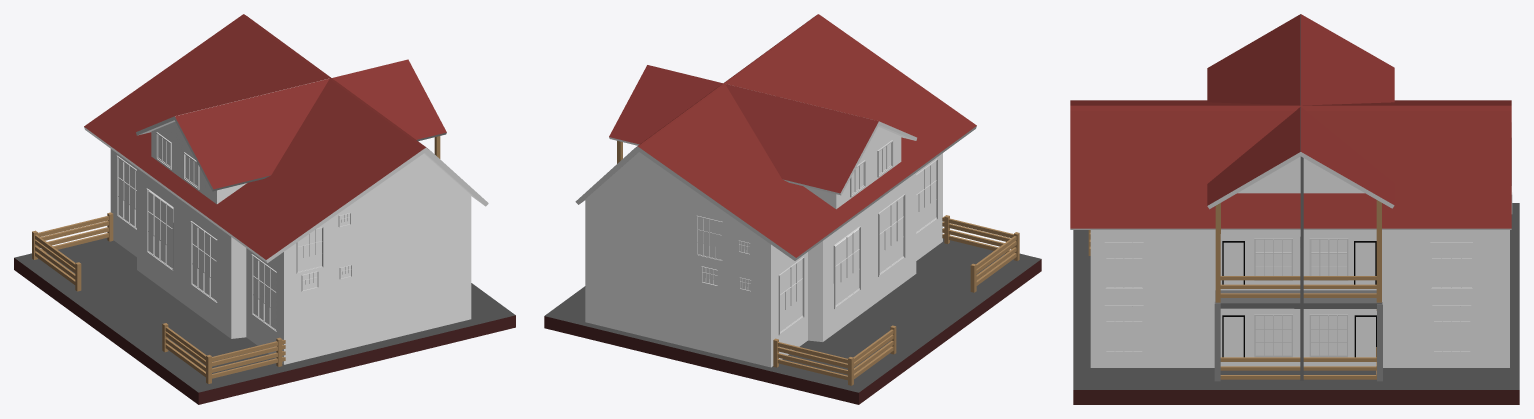
Rendered from TYPE2.glb.
The picture shows the model from 3 angles, left to right: view 1: azimuth 30°, elevation 25°; view 2: azimuth 150°, elevation 25°; view 3: azimuth 270°, elevation 25°; orthographic projection. The views are drawn at different scales.
Parts seen in each view (by area): view 1: Cube, Cube.002, Cube.001, Cube.003, Cube.040, Cube.036, Cube.005, Plane.003, Plane.004, Plane.006, Plane.008, Plane.010 (+6 smaller); view 2: Cube, Cube.002, Cube.001, Cube.004, Cube.036, Cube.040, Cube.005, Plane.003, Plane.004, Plane.008, Plane.006, Plane.018 (+4 smaller); view 3: Cube.002, Cube, Cube.001, Cube.004, Cube.003, Cube.005, Cube.007, Plane.032, Plane.026, Plane.028, Plane.030, Plane.043 (+22 smaller).
Boxes of the visible parts, box(x1,y1,x2,y2) form: Cube: box(110, 149, 471, 364); Cube.002: box(84, 14, 488, 262); Cube.001: box(14, 223, 515, 404); Cube.003: box(174, 59, 446, 191); Cube.040: box(162, 323, 285, 383); Cube.036: box(32, 212, 113, 284); Cube.005: box(151, 121, 246, 204); Plane.003: box(148, 191, 173, 268); Plane.004: box(192, 224, 217, 301); Plane.006: box(253, 257, 276, 330); Plane.008: box(118, 159, 136, 227); Plane.010: box(297, 228, 321, 271); Cube: box(585, 152, 942, 367); Cube.002: box(575, 14, 976, 260); Cube.001: box(544, 238, 1041, 404); Cube.004: box(609, 65, 879, 195); Cube.036: box(773, 329, 893, 385); Cube.040: box(942, 217, 1019, 292); Cube.005: box(804, 126, 901, 209); Plane.003: box(835, 229, 859, 305); Plane.004: box(879, 197, 903, 272); Plane.008: box(780, 260, 802, 331); Plane.006: box(916, 162, 936, 231); Plane.018: box(698, 217, 722, 260); Cube.002: box(1070, 100, 1511, 229); Cube: box(1090, 230, 1509, 367); Cube.001: box(1073, 203, 1519, 404); Cube.004: box(1300, 14, 1394, 208); Cube.003: box(1207, 14, 1302, 209); Cube.005: box(1237, 156, 1364, 193); Cube.007: box(1215, 290, 1381, 308); Plane.032: box(1432, 243, 1472, 287); Plane.026: box(1106, 307, 1142, 351); Plane.028: box(1106, 243, 1142, 287); Plane.030: box(1434, 307, 1470, 351); Plane.043: box(1255, 316, 1291, 355).
Size of the model in its own units: 5 by 3.06 by 5.07.
